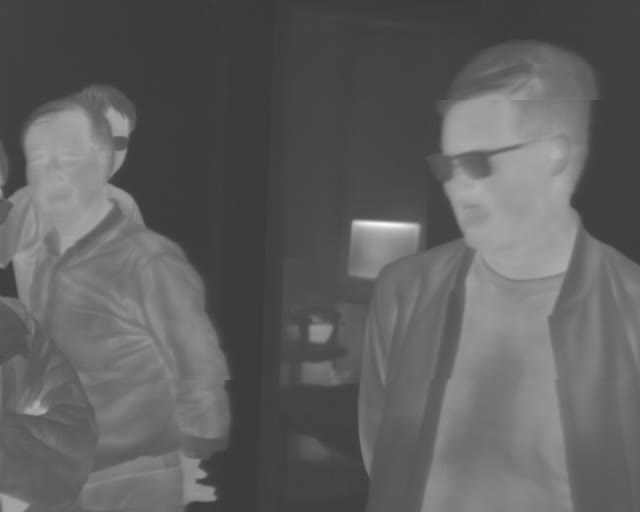face: (433, 37, 602, 249), (21, 96, 114, 227)
